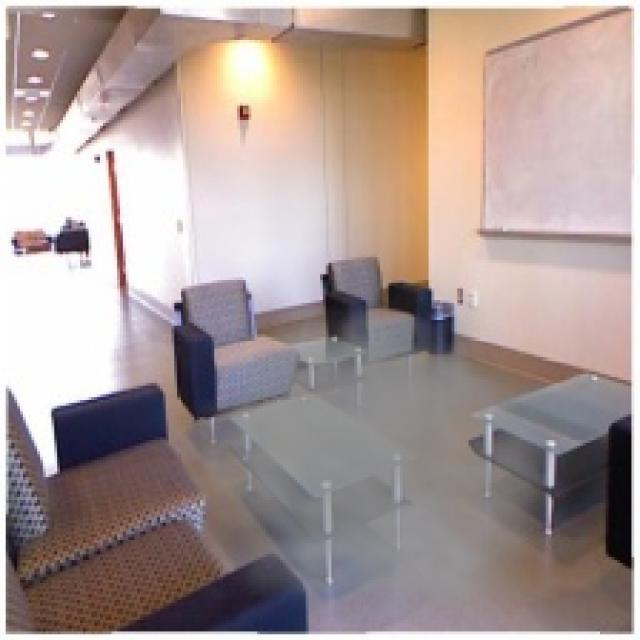smoke: (166, 268, 583, 626)
